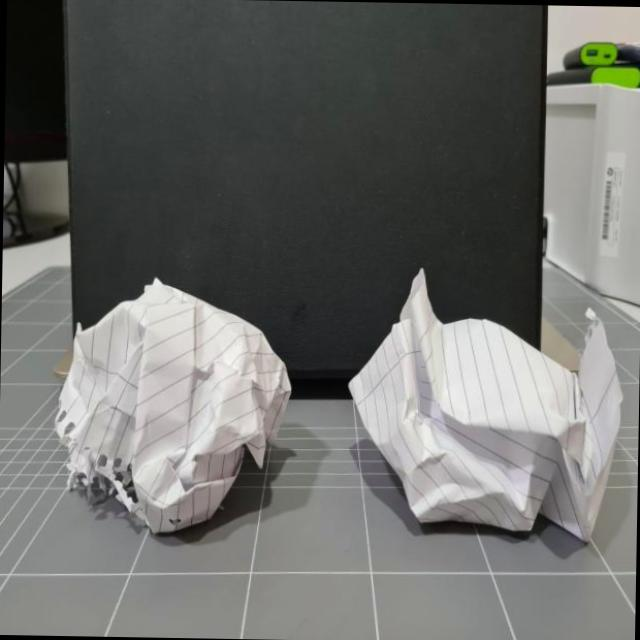cardboard paper: (66, 0, 544, 374), (350, 267, 622, 537), (56, 277, 290, 530)
